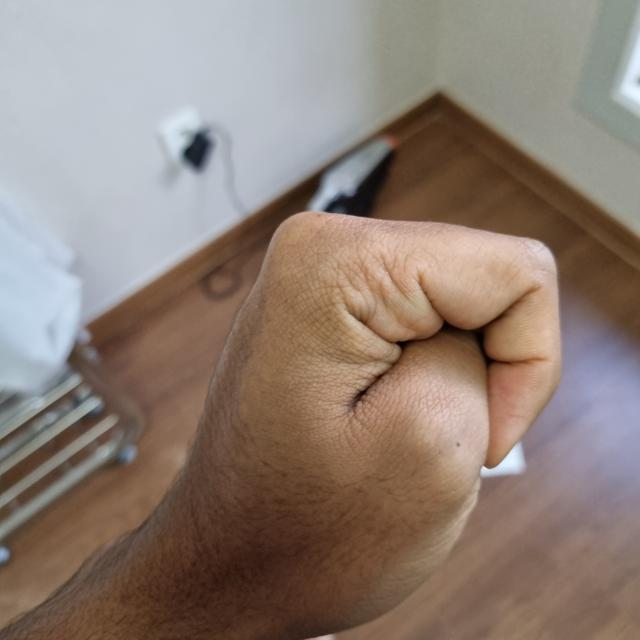Rock: (164, 217, 543, 634)
